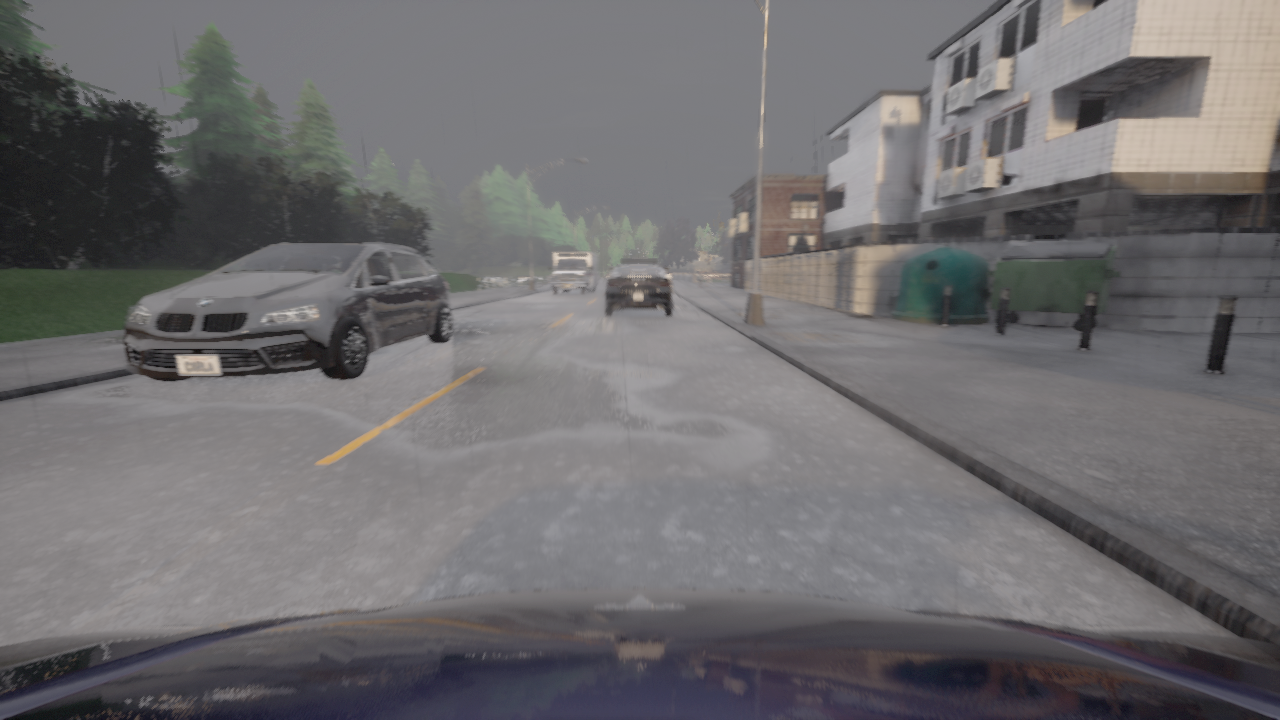cyclist: (0, 588, 1279, 719), (123, 241, 452, 381), (604, 258, 673, 316), (548, 251, 598, 294)
pedestrian: (698, 272, 701, 286), (707, 273, 708, 284)
